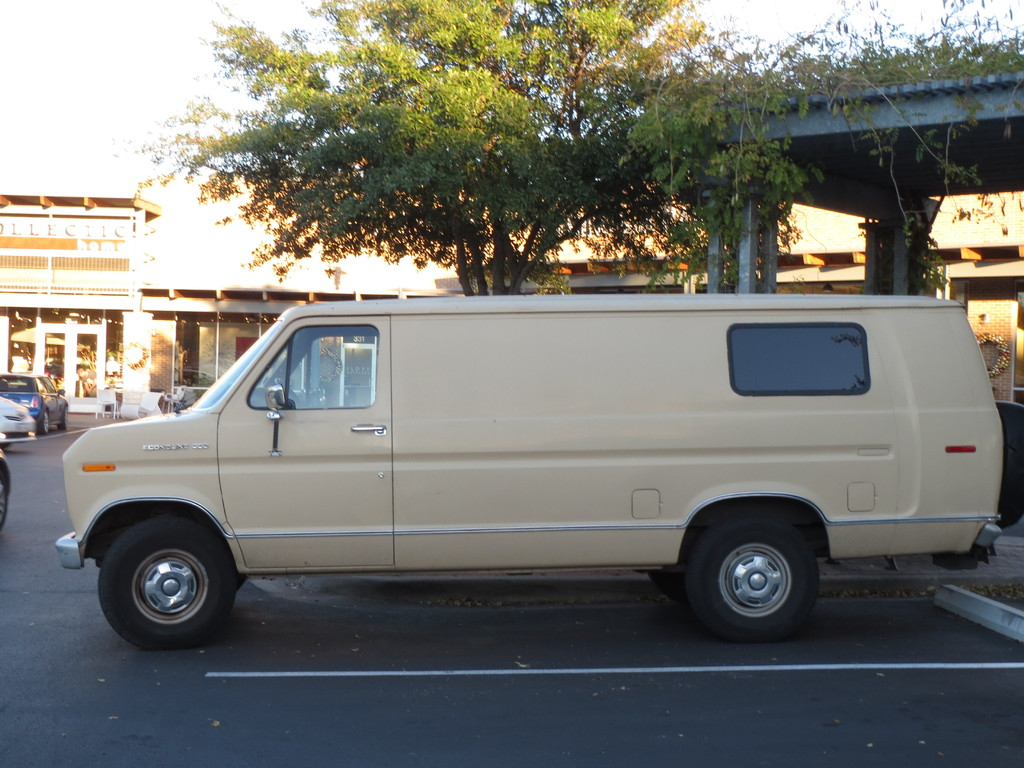Car: (0, 373, 68, 432), (0, 396, 33, 448), (0, 452, 10, 527)
